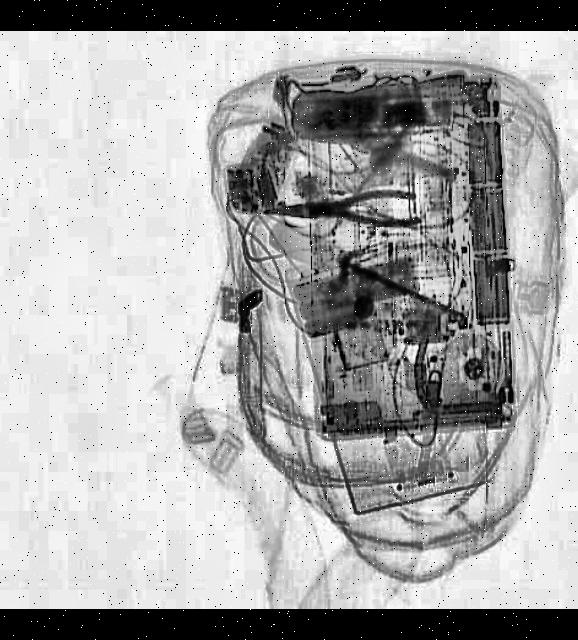Pliers: (259, 190, 419, 234)
